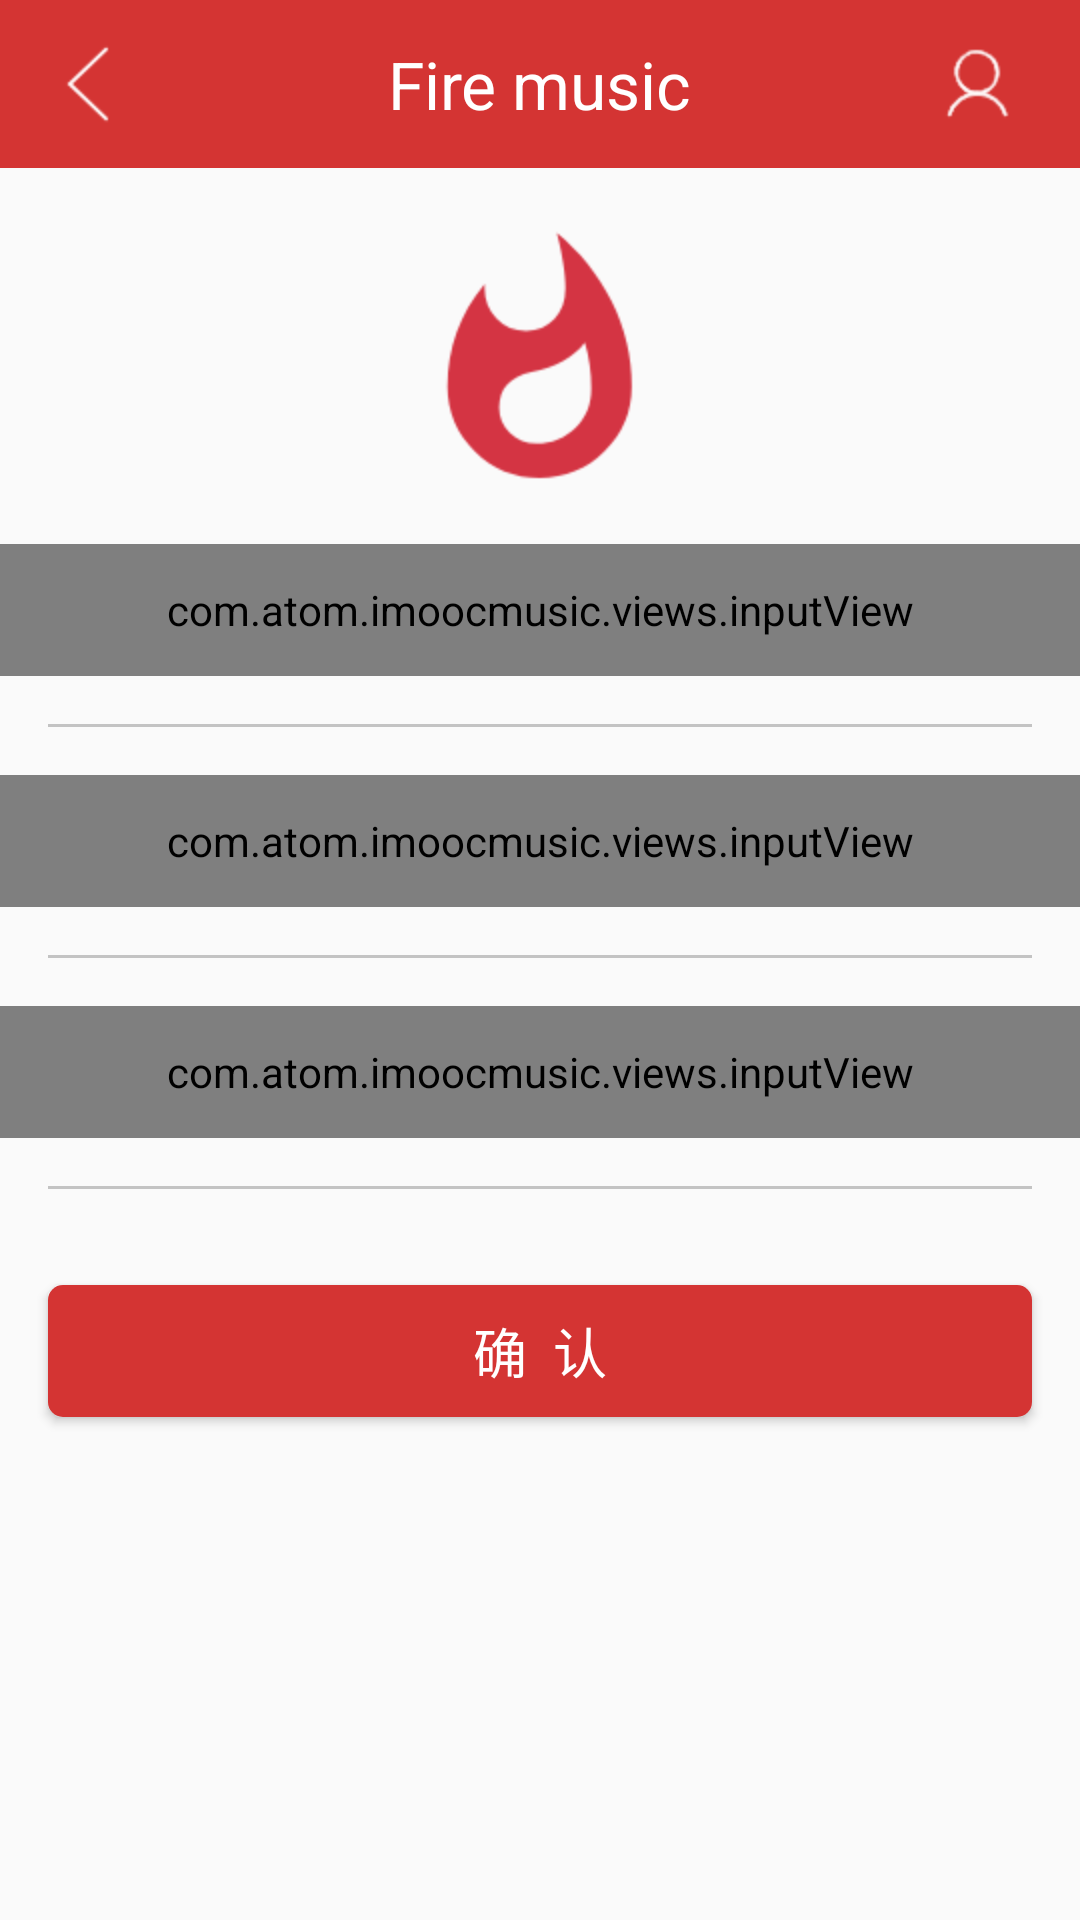

Named icons in this screenshot (1080*1920) and their centers, [x,y]:
back: [88,84]
person: [978,83]
